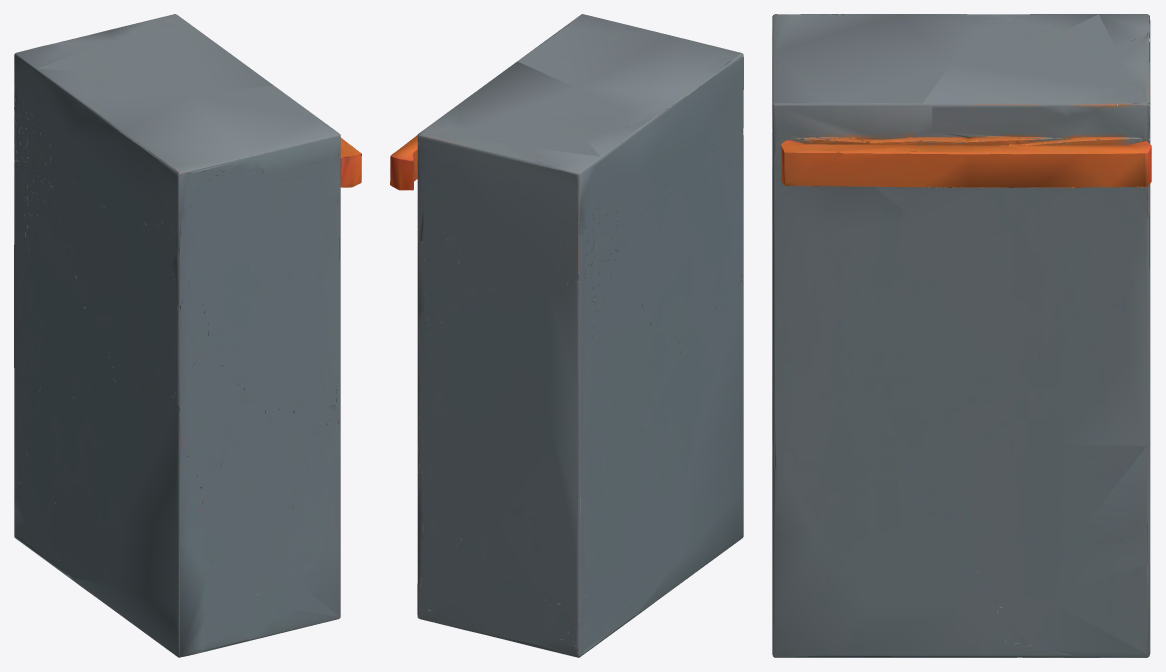
The model's file is ch05_station_night_power_box.glb.
3 renders of one model, left to right at view 1: azimuth 30°, elevation 25°; view 2: azimuth 150°, elevation 25°; view 3: azimuth 270°, elevation 25°, orthographic. The views are drawn at different scales.
Parts seen in each view (by area): view 1: material; view 2: material; view 3: material.
Boxes of the visible parts, bbox=[...] form: material: bbox=[14, 14, 361, 657]; material: bbox=[390, 14, 743, 657]; material: bbox=[772, 14, 1151, 657].
Size of the model in its own units: 0.4003 by 0.9673 by 0.5992.
1 material, 1 textured.
